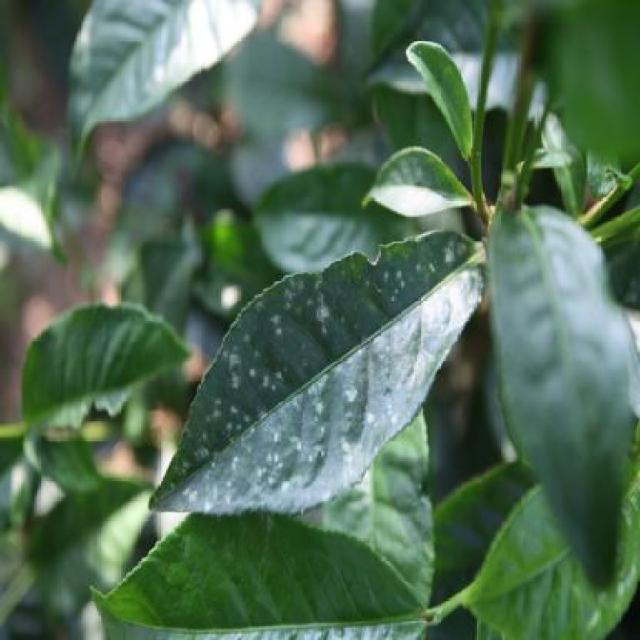White spot of tea: (116, 240, 558, 495)
